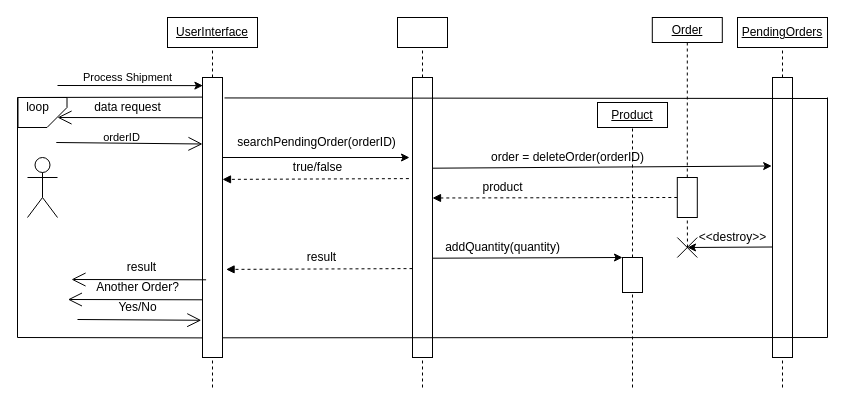
Some shapes in this 846 by 406 pixel diagram are drawn without their labels. Here are the shapes that lost their labels. From the top down, the centre of each, then its label:
At (x=422, y=32): "Store".
At (x=42, y=187): "Clerk".
